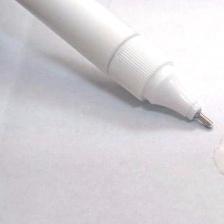correction_fluid: (0, 0, 218, 131)
